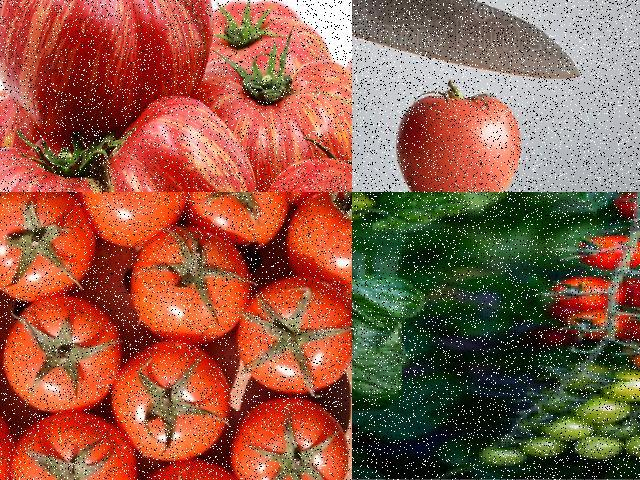tomato: (0, 0, 212, 124), (188, 57, 351, 191), (386, 78, 529, 191), (0, 136, 268, 191), (131, 228, 250, 342), (4, 292, 116, 409), (237, 278, 351, 392), (216, 0, 331, 113), (114, 347, 228, 456), (0, 192, 96, 301), (232, 399, 351, 479), (9, 415, 138, 479), (73, 192, 194, 249), (291, 201, 351, 297), (190, 192, 288, 248), (523, 272, 634, 308), (556, 233, 639, 270)
